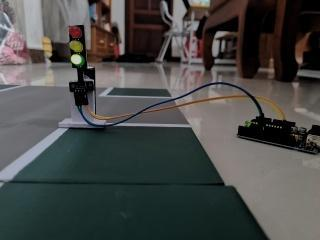green: (62, 15, 92, 83)
